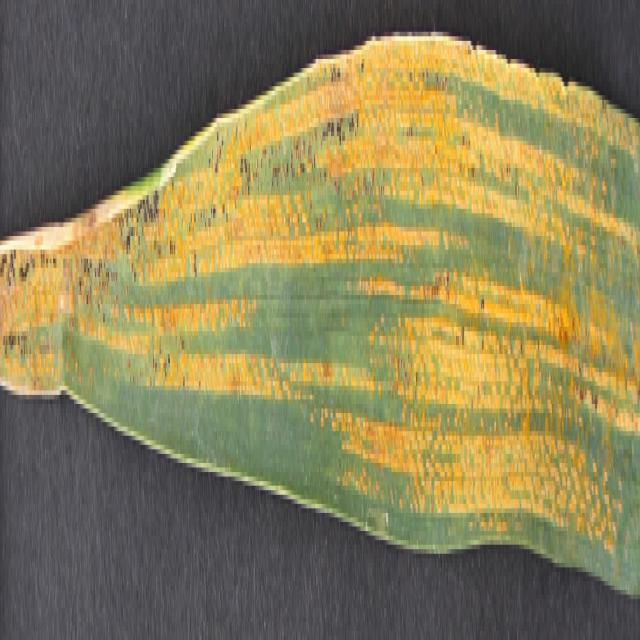leaf rust: (0, 4, 640, 562)
